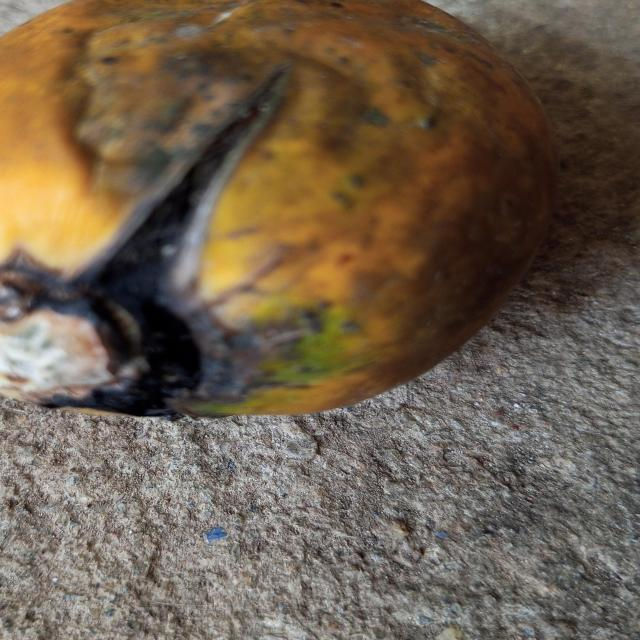damaged: (0, 0, 556, 417)
